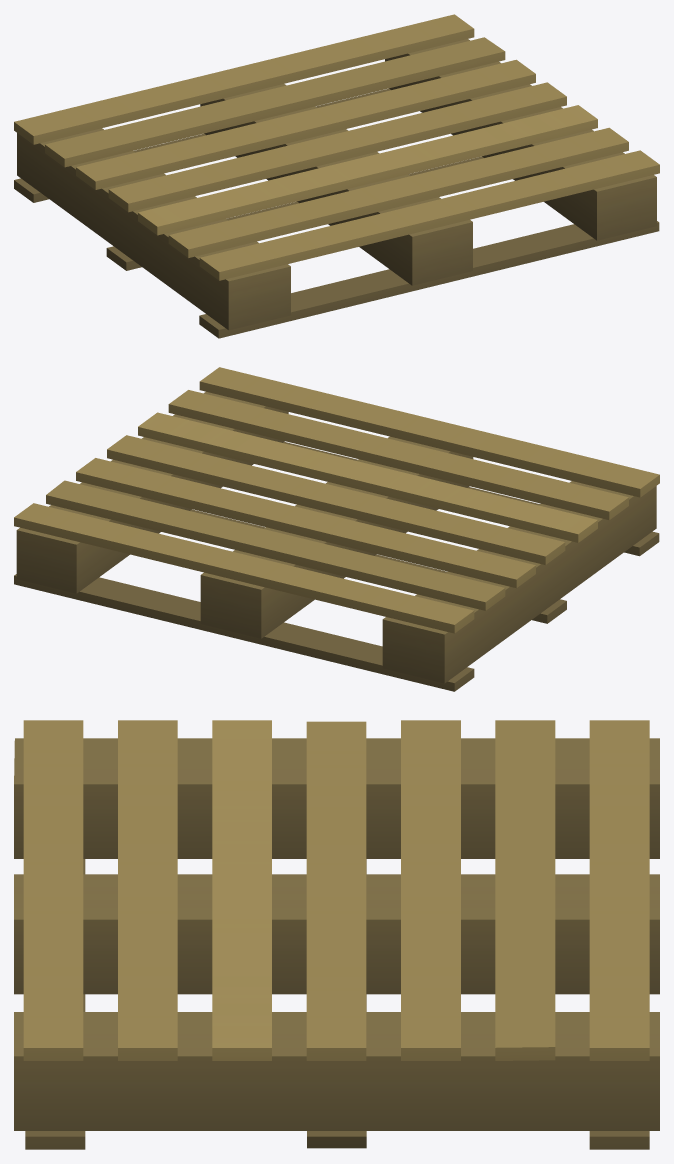
The model's file is Palette.fbx.
3 views of the same model, one above another, from view 1: azimuth 30°, elevation 25°; view 2: azimuth 150°, elevation 25°; view 3: azimuth 270°, elevation 25° (orthographic). The views are drawn at different scales.
Visible parts, largest first — view 1: Palette; view 2: Palette; view 3: Palette.
Part boxes in pixels (bbox=[...]): Palette: bbox=[14, 14, 659, 338]; Palette: bbox=[14, 367, 659, 691]; Palette: bbox=[14, 720, 659, 1149].
Bounding box in the file's own units: 120 × 17.41 × 100.
